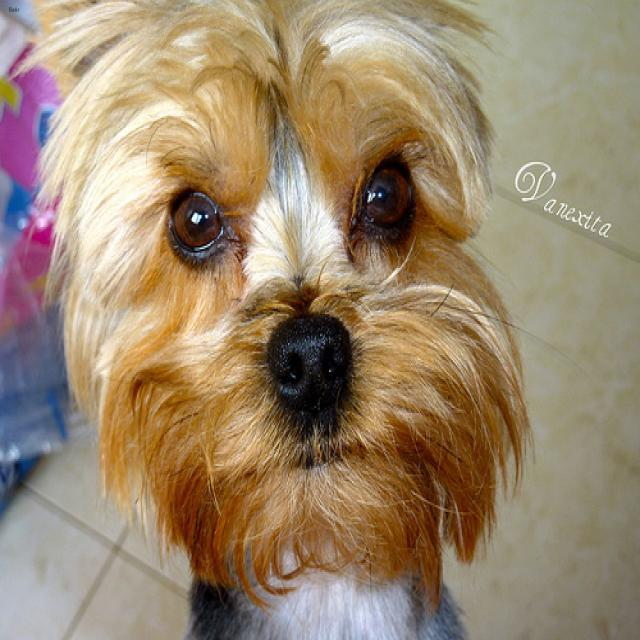dog: (32, 0, 476, 519)
